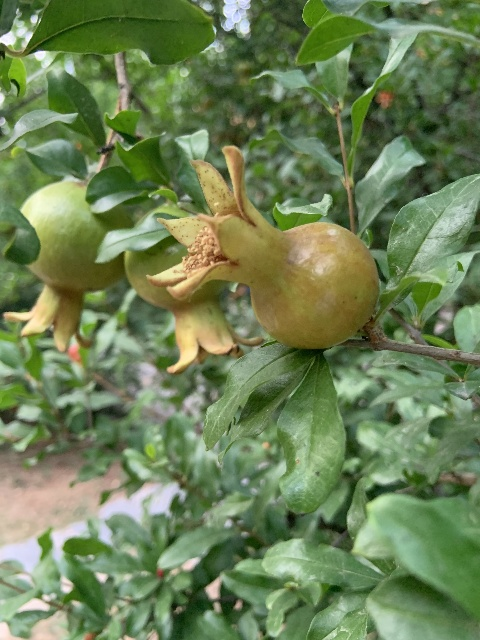early-fruit: (143, 145, 378, 354)
mid-growth: (125, 188, 273, 372), (1, 180, 126, 355)
